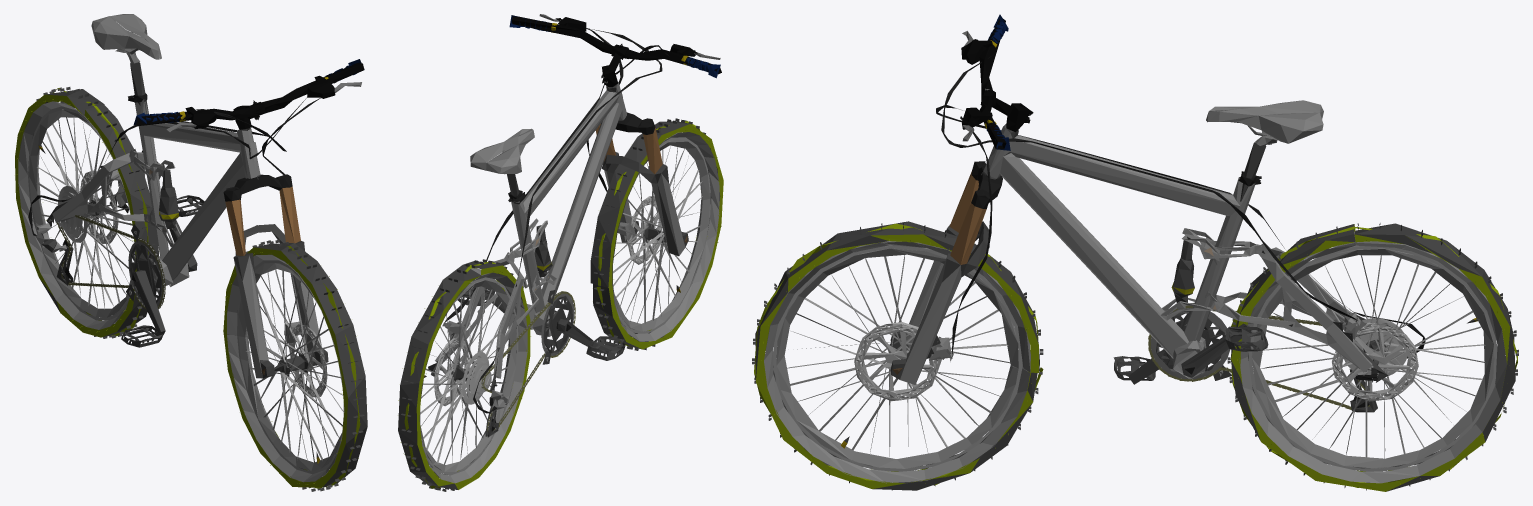
File: Mountain Bike.obj
3 renders of one model, left to right at view 1: azimuth 30°, elevation 25°; view 2: azimuth 150°, elevation 25°; view 3: azimuth 270°, elevation 25°, orthographic. The views are drawn at different scales.
Visible parts, largest first — view 1: (null); view 2: (null); view 3: (null).
Boxes of the visible parts, bbox=[...] form: (null): bbox=[15, 14, 367, 491]; (null): bbox=[398, 14, 723, 491]; (null): bbox=[752, 14, 1518, 491].
Bounding box in the file's own units: 155 × 236 × 398.
